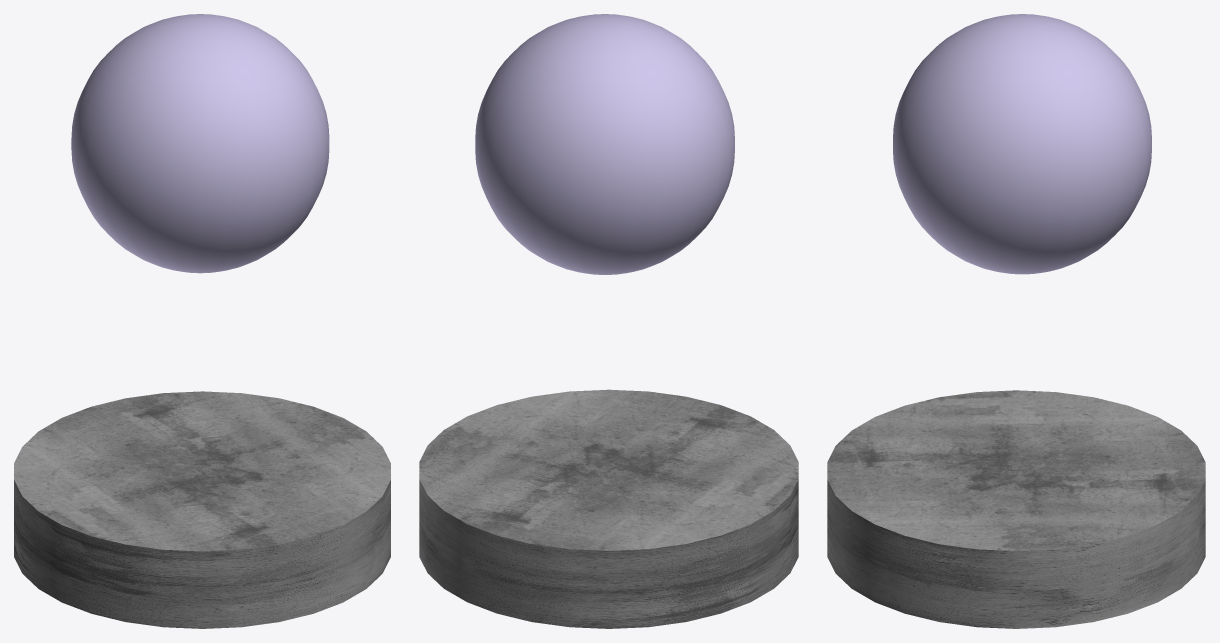
The model's file is sphViolet.glb.
3 renders of one model, left to right at view 1: azimuth 30°, elevation 25°; view 2: azimuth 150°, elevation 25°; view 3: azimuth 270°, elevation 25°, orthographic.
Visible parts, largest first — view 1: 016_Cylinder_-_baked_7, 015_Sphere_2; view 2: 016_Cylinder_-_baked_7, 015_Sphere_2; view 3: 016_Cylinder_-_baked_7, 015_Sphere_2.
Boxes of the visible parts, x1,y1,x2,y2 form: 016_Cylinder_-_baked_7: (14,391,390,628); 015_Sphere_2: (71,14,329,273); 016_Cylinder_-_baked_7: (419,389,798,628); 015_Sphere_2: (475,14,734,274); 016_Cylinder_-_baked_7: (827,390,1205,628); 015_Sphere_2: (893,14,1151,274).
Bounding box in the file's own units: 17.34 × 26.29 × 17.25.
Materials: 2 (1 with a texture image).
